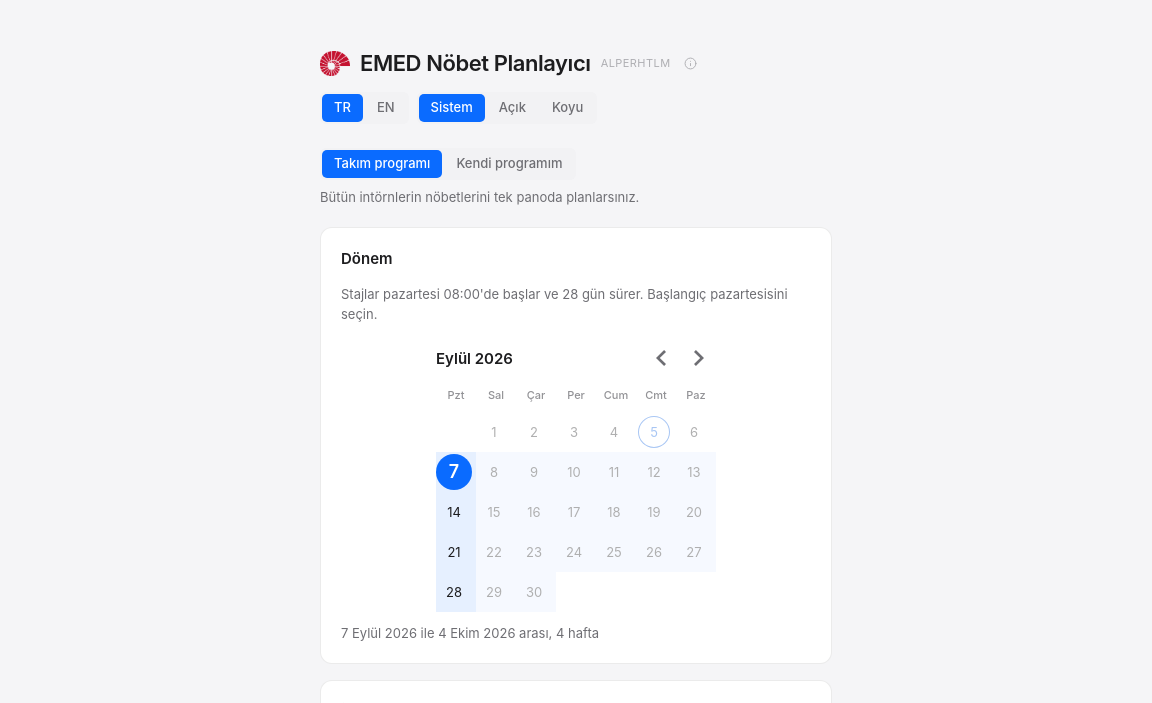
Test case: stress test fixes › refuses to export a solo file with no name on it
The width and height of the screenshot is (1152, 703).
What coordinates should you click on to do the following:
click the radio button labelled "Kendi programım"
I would click on:
 (509, 164)
Its box is x1=444 y1=150 x2=574 y2=178.
(page scrolled)
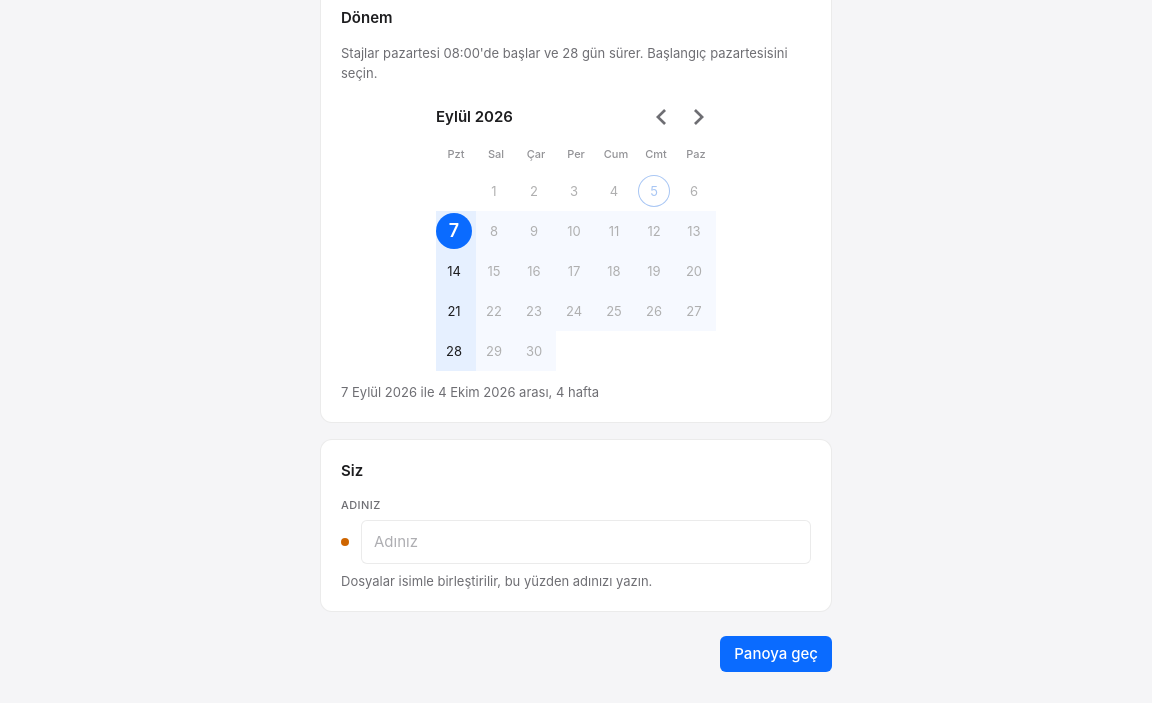
What coordinates should you click on to do the following:
click the button "Panoya geç"
I would click on:
 (776, 654)
Its box is x1=720 y1=636 x2=832 y2=672.
(page scrolled)
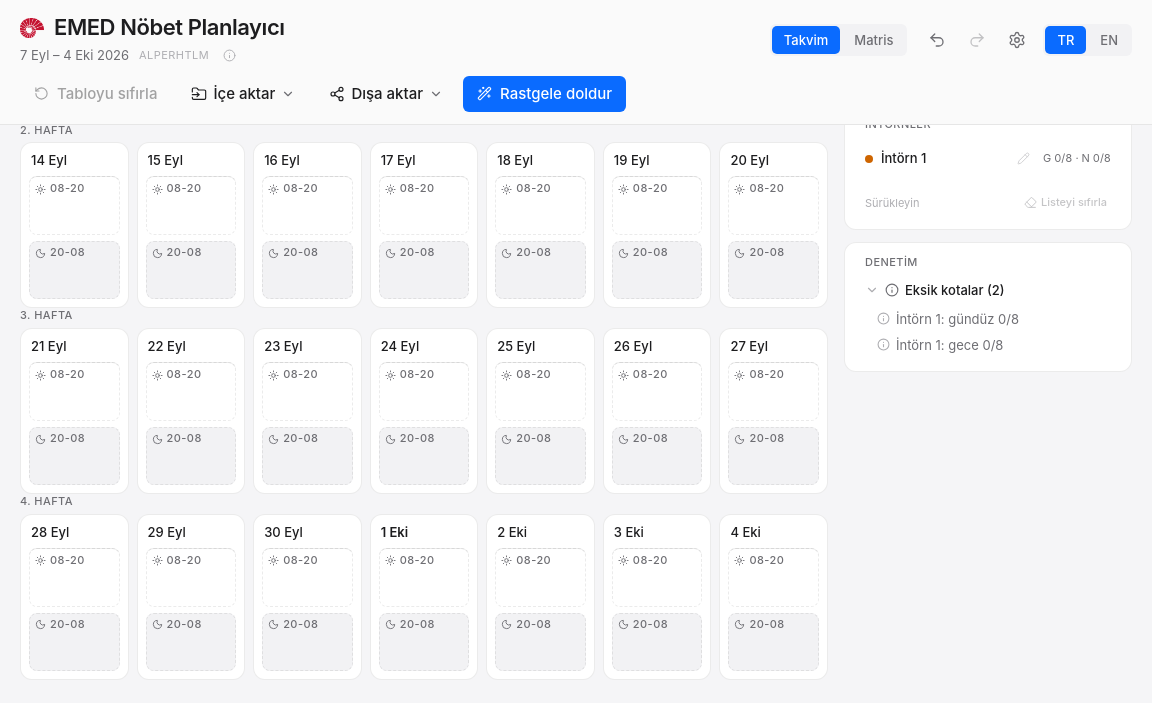
What coordinates should you click on to do the following:
click the button "Dışa aktar"
I would click on:
 (386, 94)
Its box is x1=315 y1=76 x2=457 y2=112.
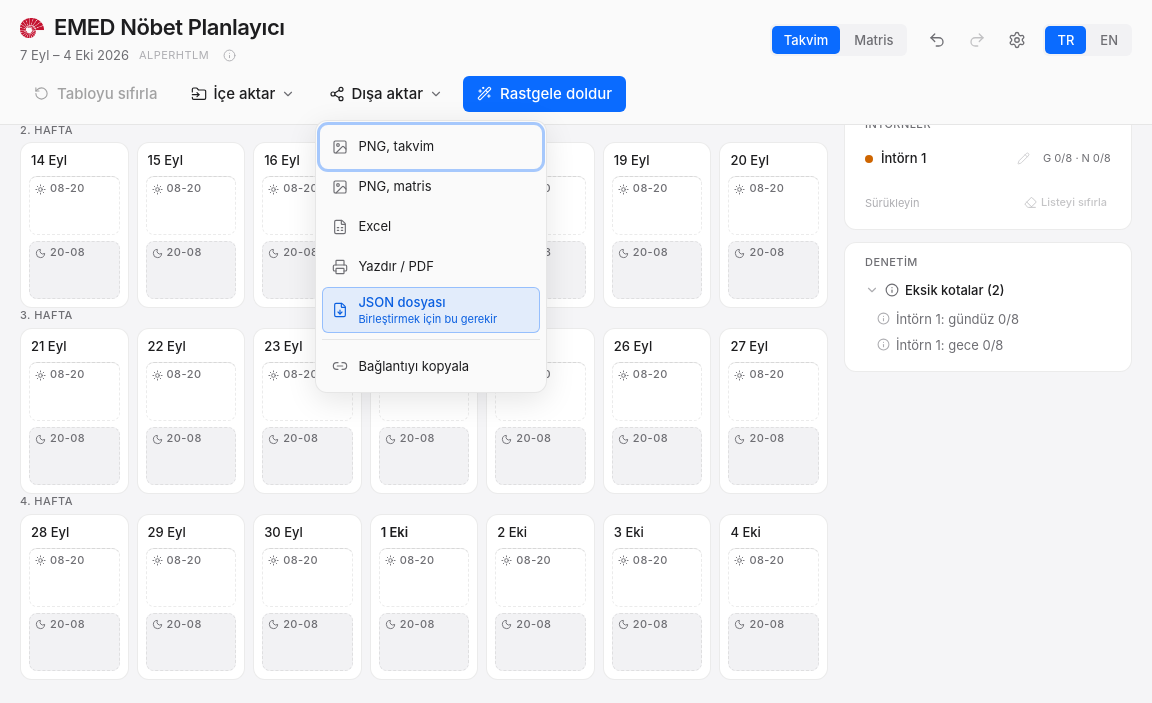
What coordinates should you click on to do the following:
click the menu item "JSON dosyası Birleştirmek için bu gerekir"
I would click on:
 (431, 310)
Its box is x1=322 y1=287 x2=540 y2=333.
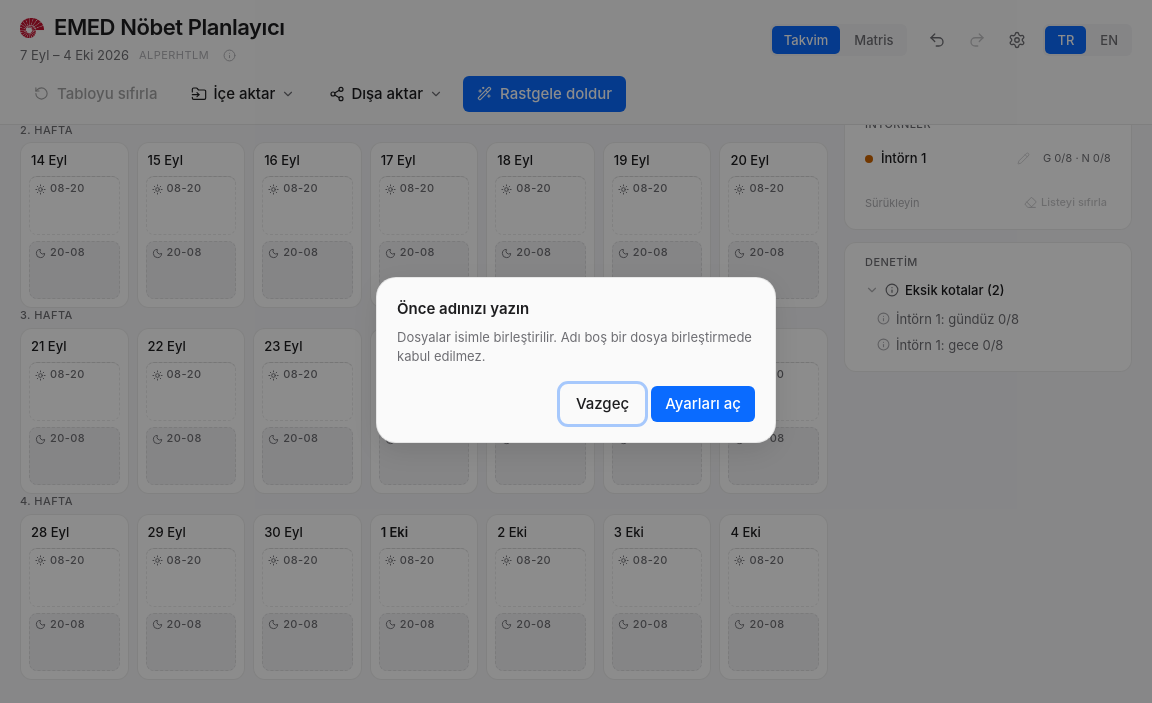
Result: the dialog "Önce adınızı yazın" is shown at x1=376 y1=277 x2=776 y2=443
